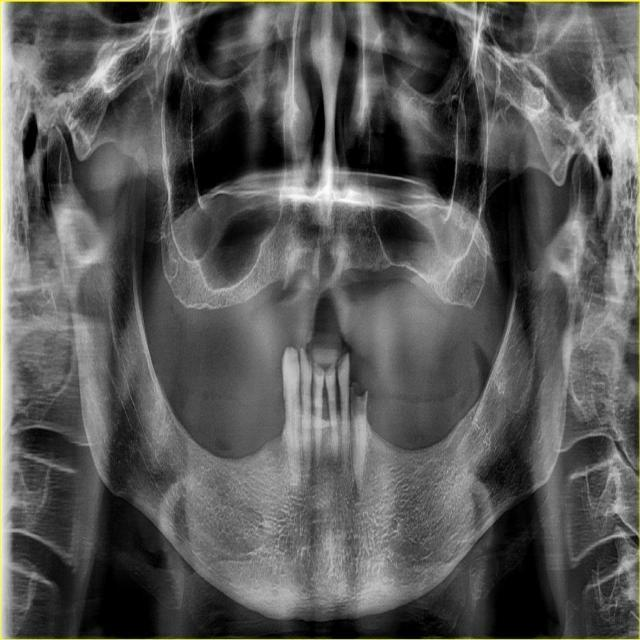72: (279, 250, 299, 291), (330, 248, 348, 283), (312, 247, 319, 278)
Sterngold Implant: (350, 381, 367, 418)
